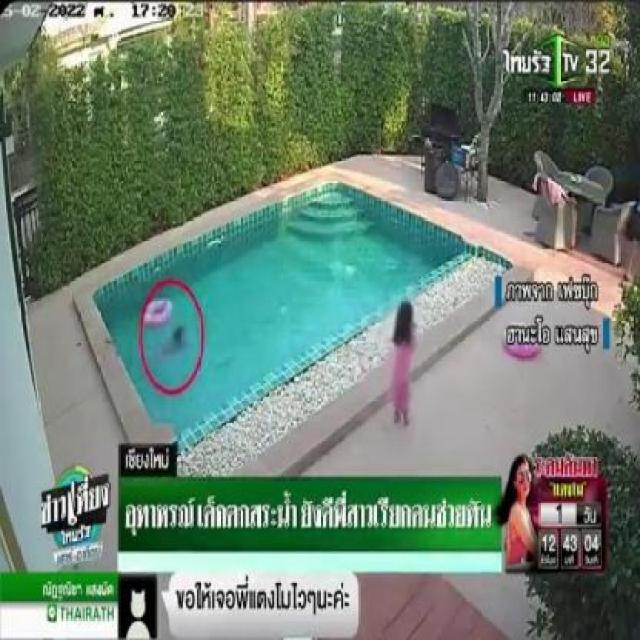drowning: (150, 327, 193, 365)
